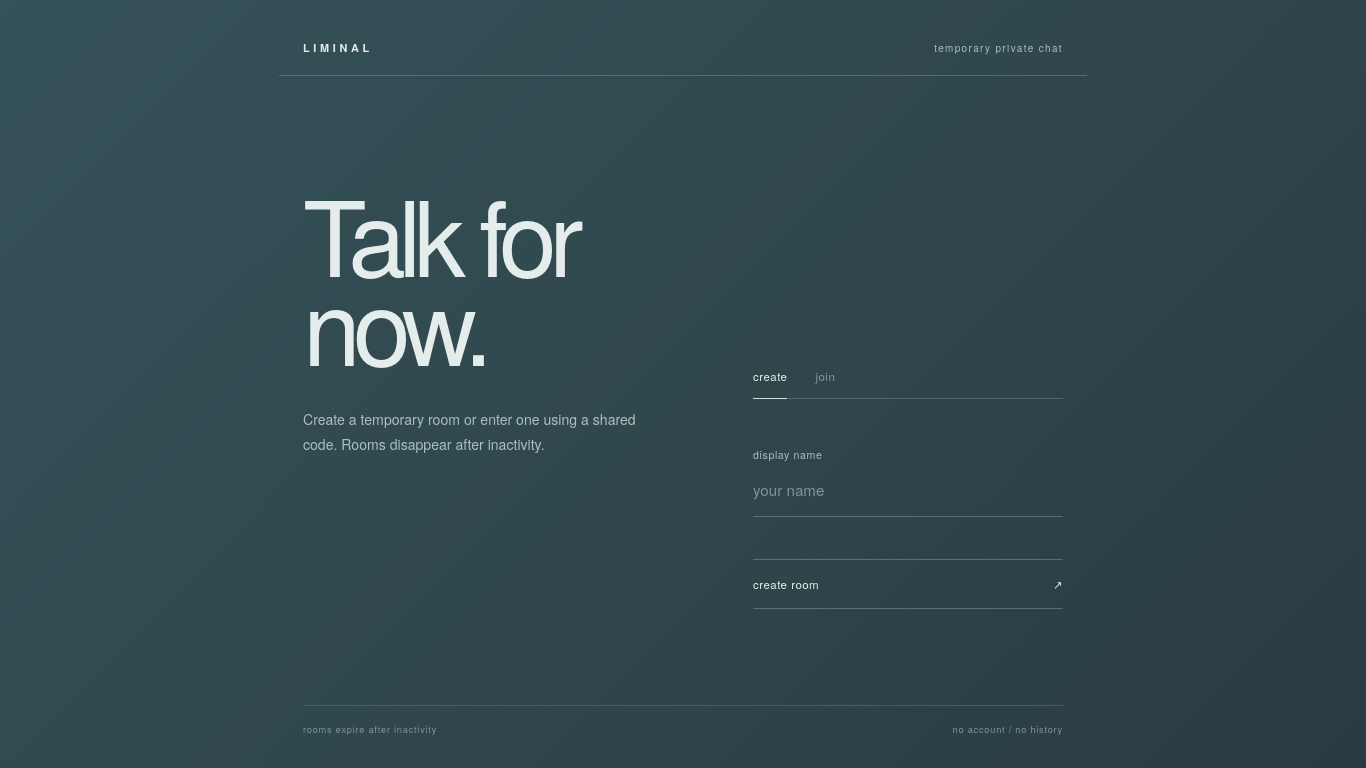
HomeView › rejects an invalid join code
The image size is (1366, 768).
Click the button "join" at (825, 383), box [816,368,835,398]
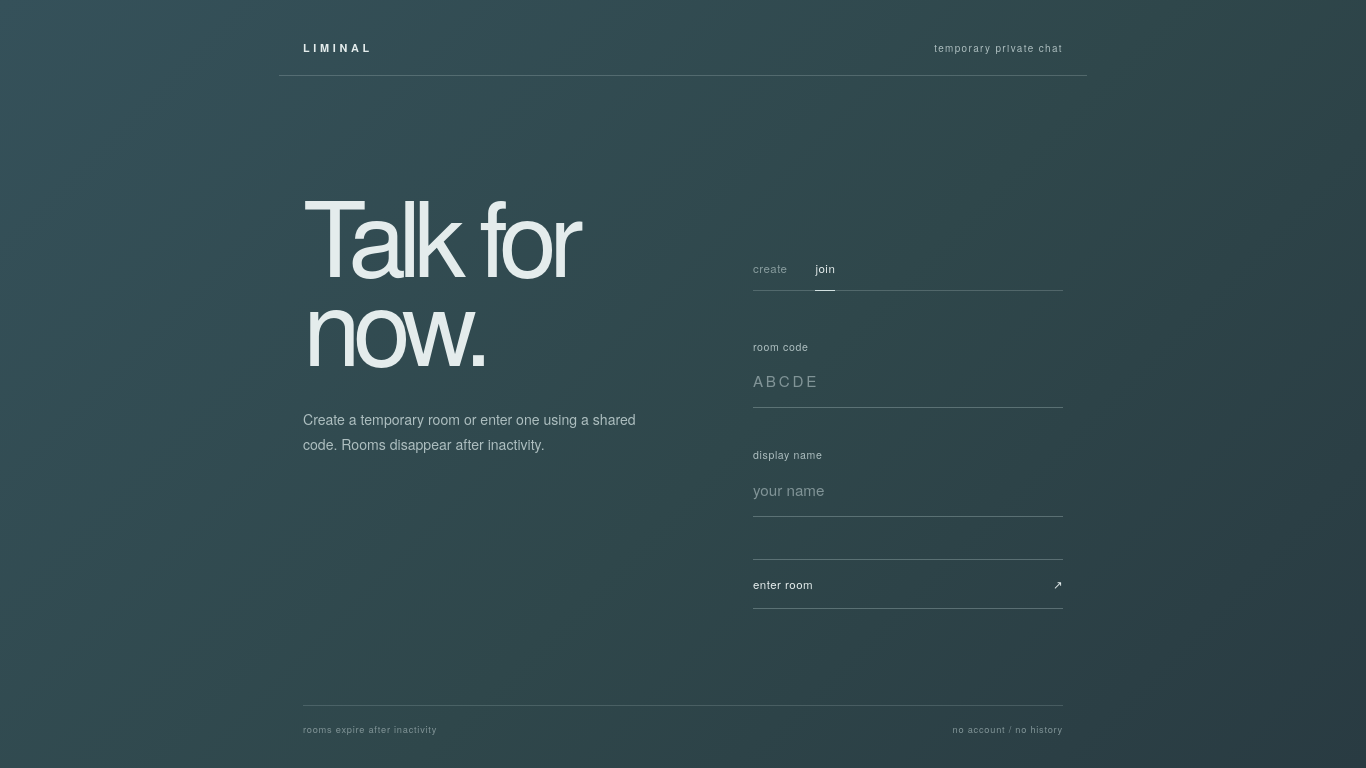
Type "Bob" into the field with id "display-name" at (908, 495), box [753,473,1063,517]
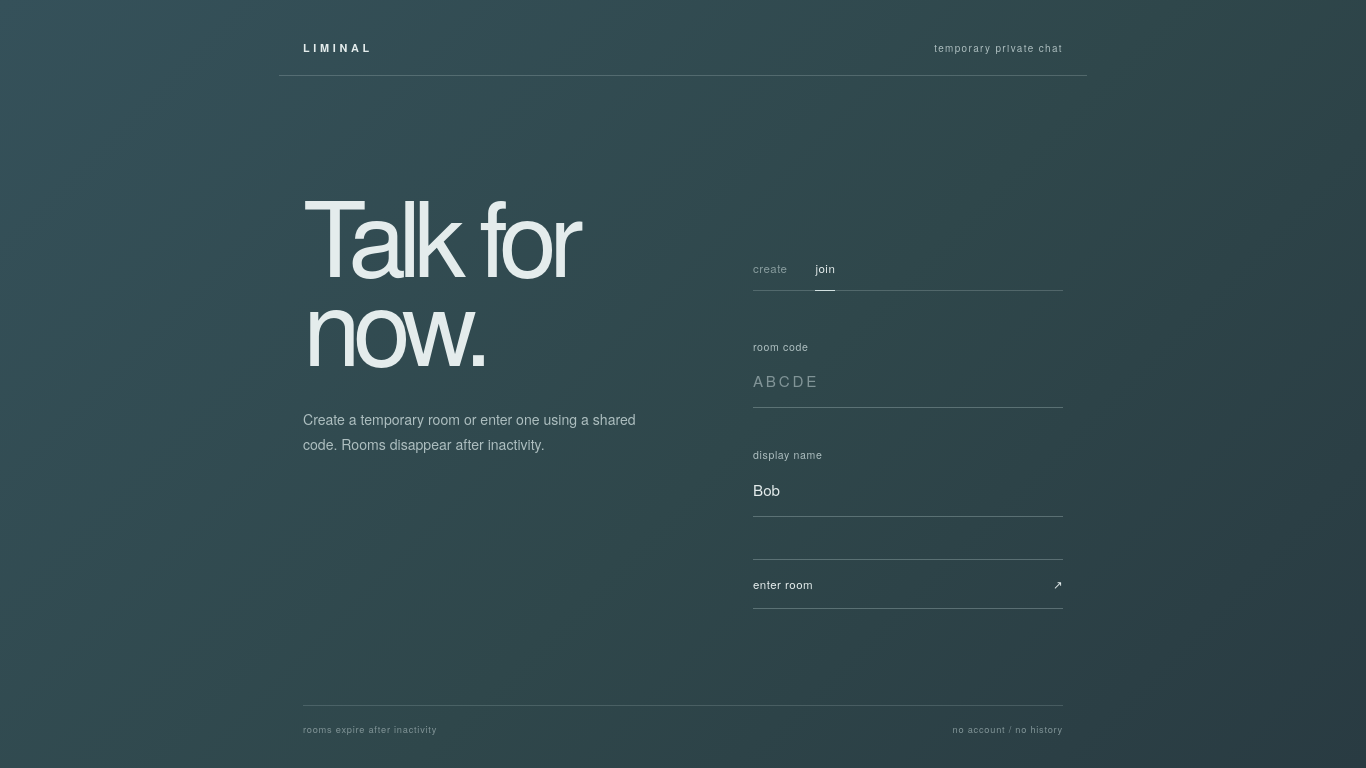
Type "AB-12" into the field with id "room-code" at (908, 387), box [753,365,1063,408]
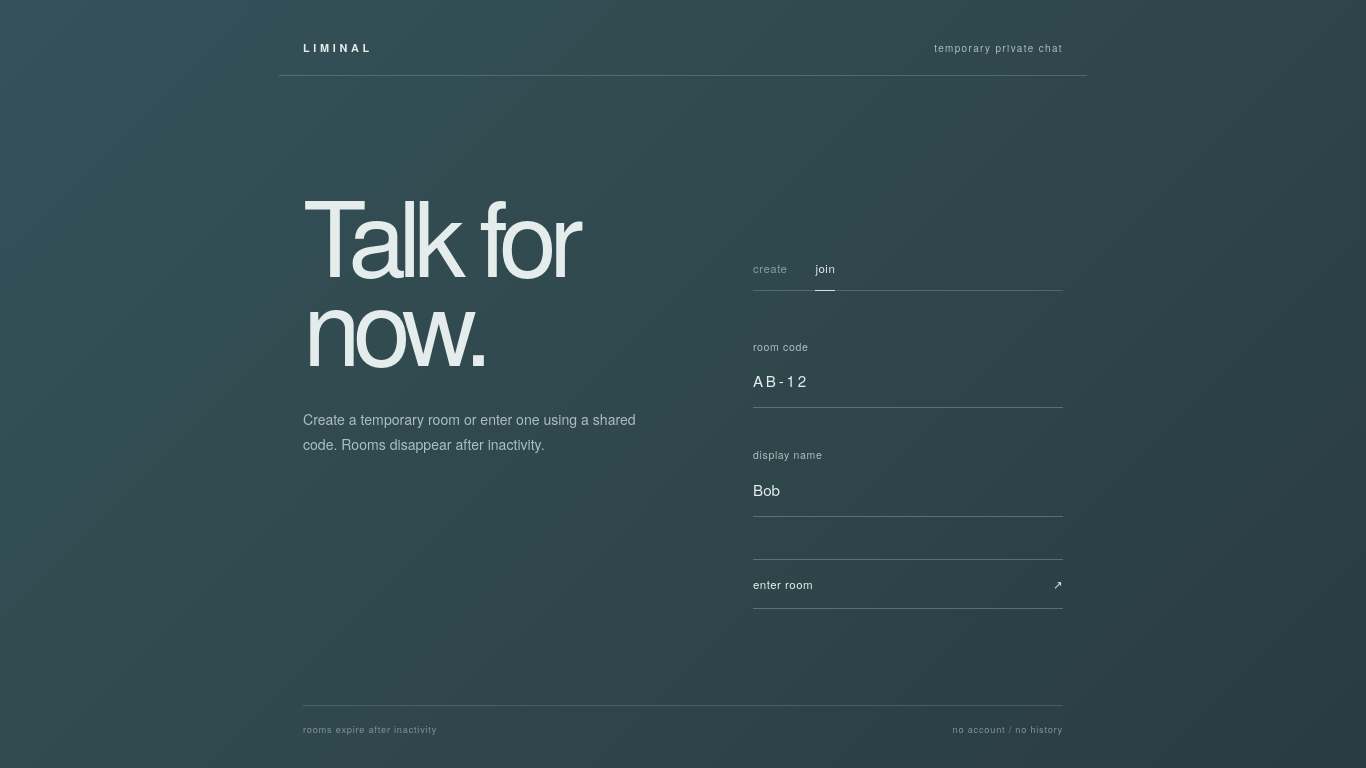
Submit the form, box [753,339,1063,609]
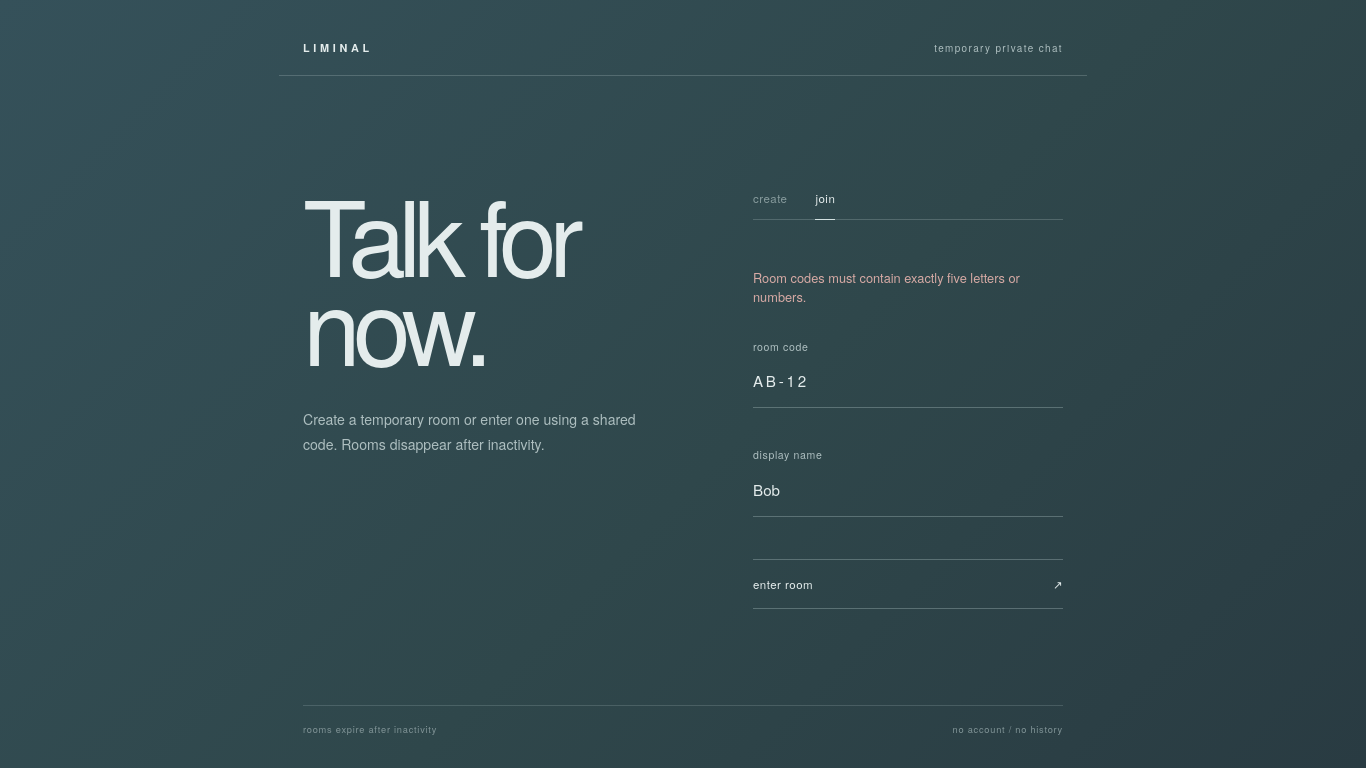
Check: the message "Room codes must contain exactly five letters or numbers." is shown, box [753,268,1063,307]
